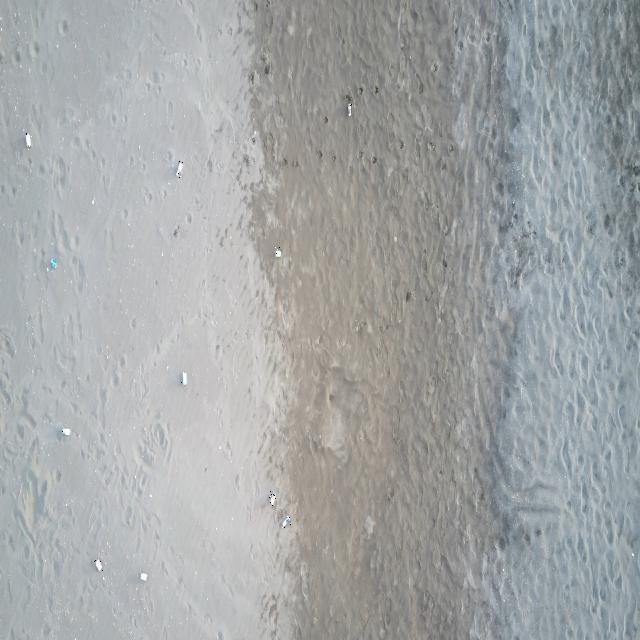Garbage: (280, 515, 291, 526), (24, 131, 31, 148), (176, 160, 183, 176), (94, 559, 103, 571), (268, 492, 275, 506), (180, 371, 187, 384), (60, 427, 71, 435), (347, 101, 352, 116), (273, 246, 280, 256), (49, 258, 55, 268), (140, 572, 147, 580)
